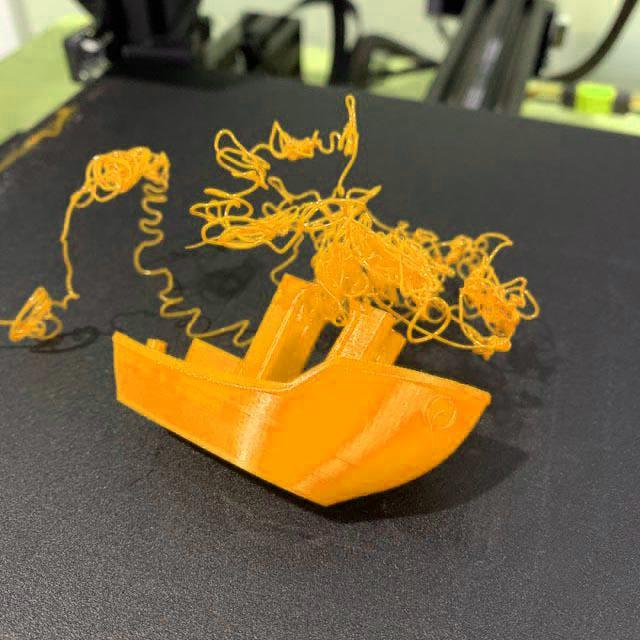Spaghetti: (0, 91, 541, 360)
